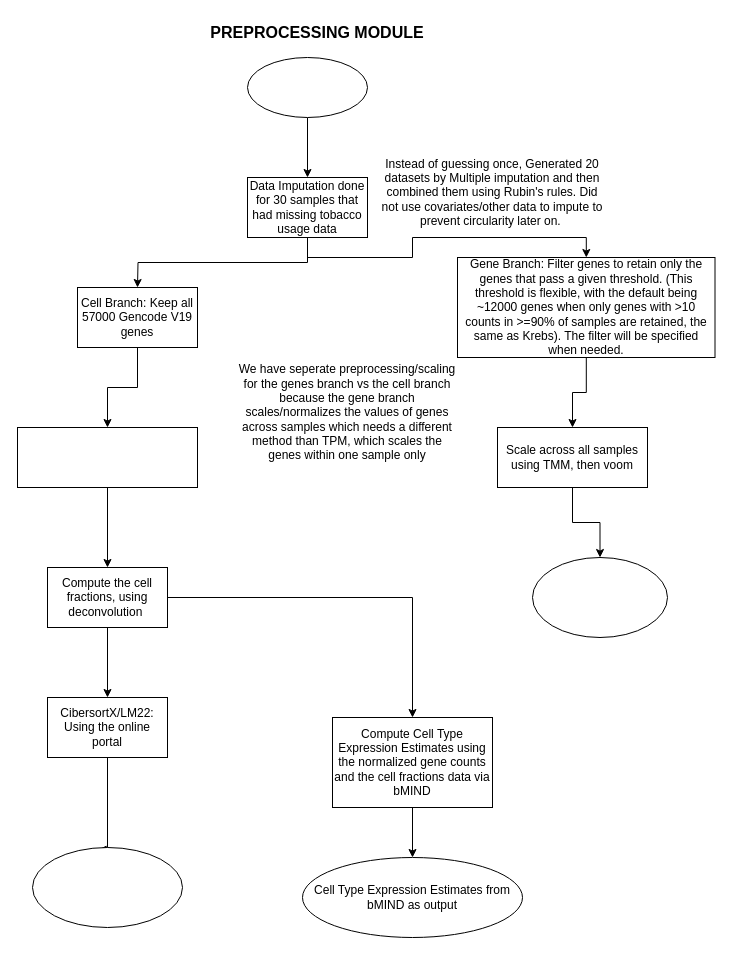
This 733x955 diagram has some shape labels left out. The centre of each missing label's shape, as x and y in pixels:
Cell Fractions from CIBERSORTx as output: point (107, 887)
Complete Dataset of 480 samples: point (307, 87)
Get the Gene Matrix as output: point (600, 597)
Scale the samples: TPM for Cibersortx and Raw Counts for Bayes Prism: point (107, 457)
